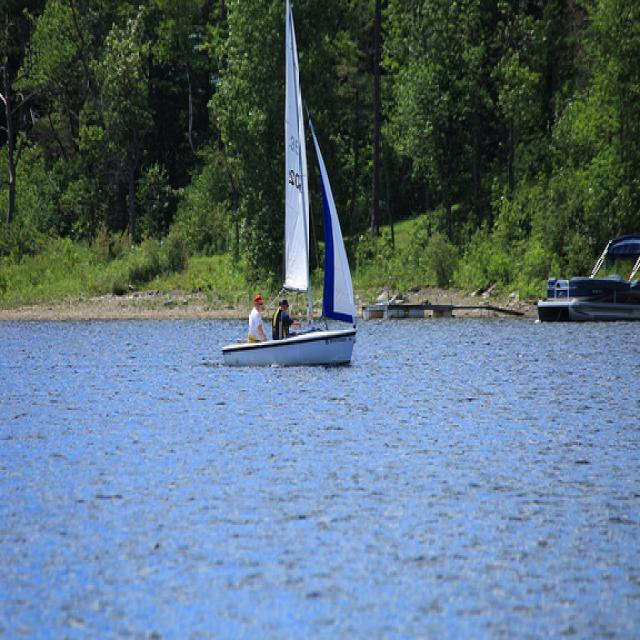navalvessels: (215, 0, 366, 378)
